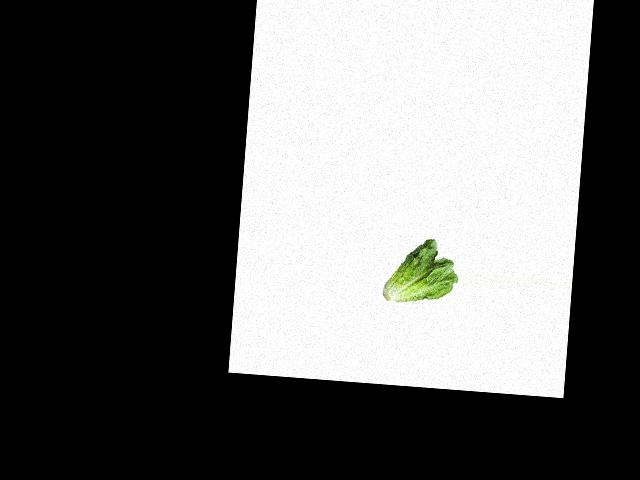lettuce: (382, 233, 462, 309)
